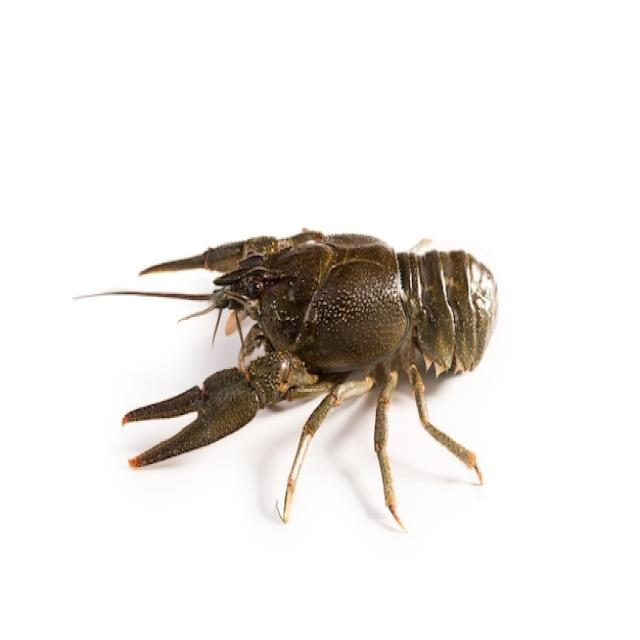Crawfish: (126, 232, 498, 521)
